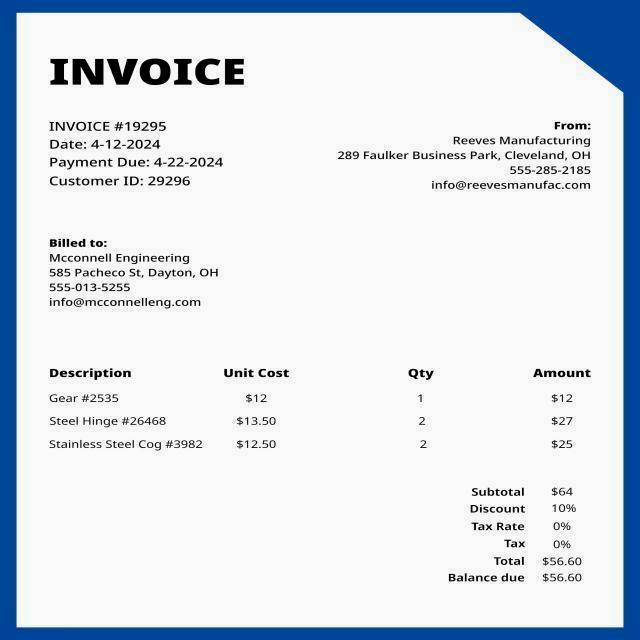paragraph: (317, 91, 616, 222), (422, 479, 597, 594), (34, 224, 238, 318), (34, 116, 240, 196), (34, 43, 256, 103)
table: (24, 344, 603, 466)
